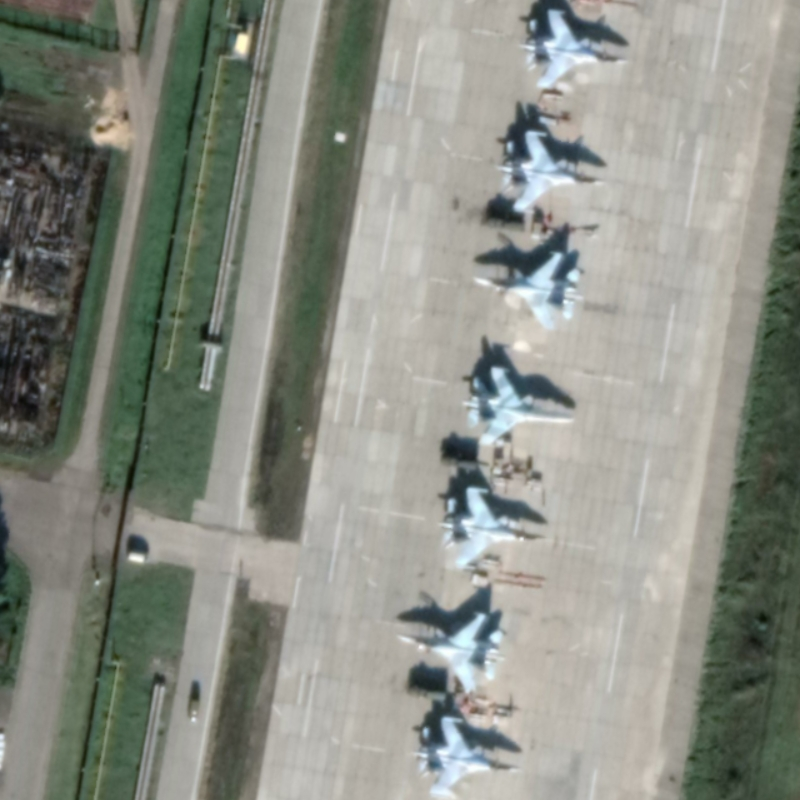A1: (394, 608, 510, 698), (493, 126, 607, 217), (458, 363, 576, 450), (436, 482, 546, 574), (410, 711, 523, 800), (470, 247, 585, 333), (518, 4, 629, 92)
